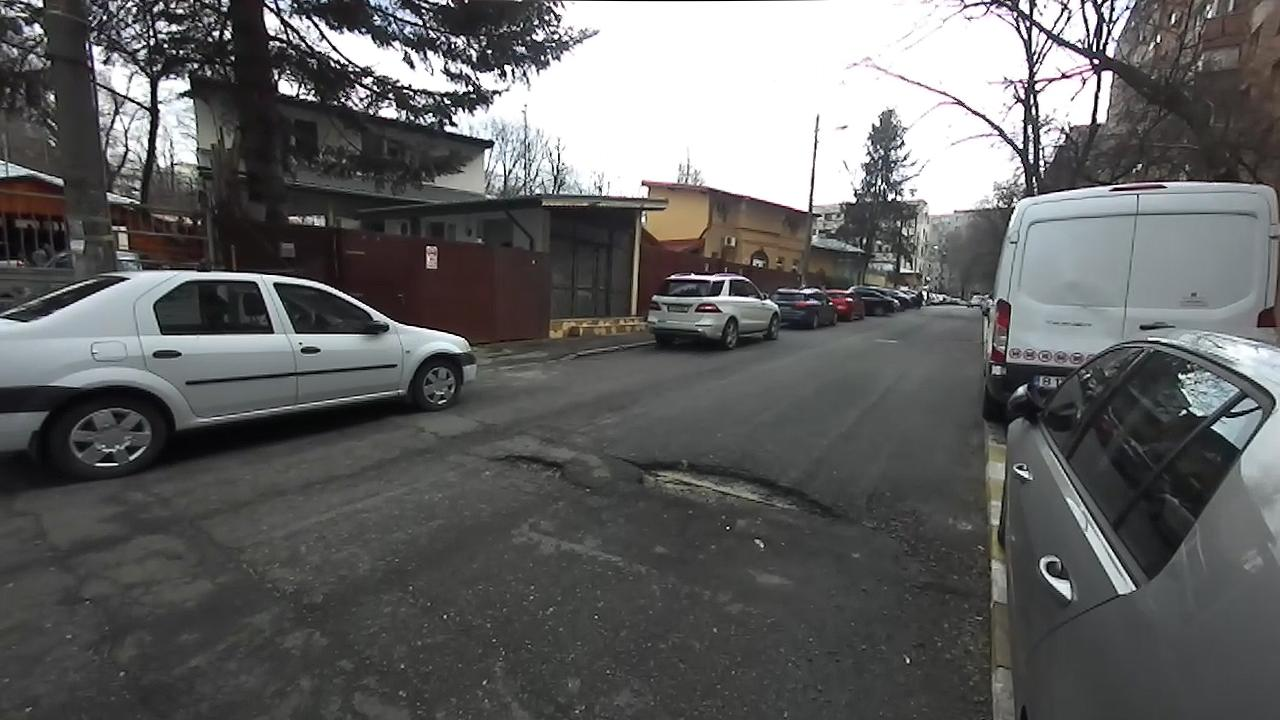pothole: (610, 450, 857, 525), (485, 451, 592, 491)
